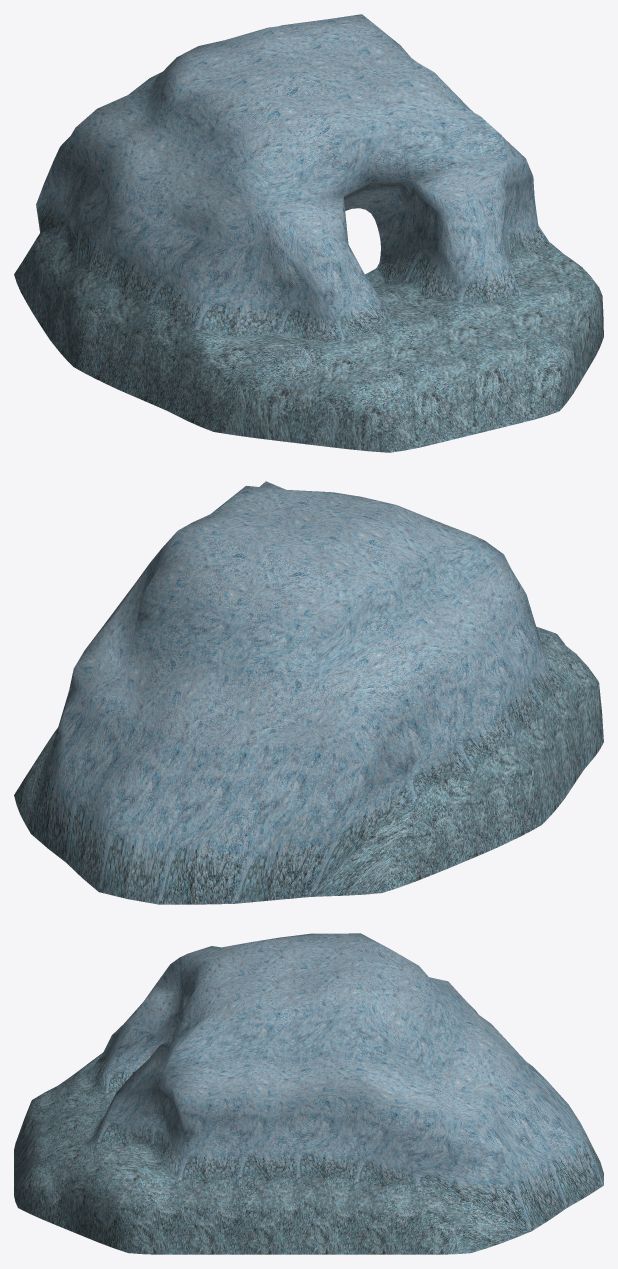
The model's file is thm_all_cave_flatland_s01_ice_r0_mesh_l0.fbx.
3 views of the same model, one above another, from view 1: azimuth 30°, elevation 25°; view 2: azimuth 150°, elevation 25°; view 3: azimuth 270°, elevation 25° (orthographic). The views are drawn at different scales.
Visible parts, largest first — view 1: mesh_node; view 2: mesh_node; view 3: mesh_node.
Boxes of the visible parts, box(x1,y1,x2,y2) form: mesh_node: box(14, 14, 603, 452); mesh_node: box(14, 481, 603, 904); mesh_node: box(14, 933, 603, 1254).
Bounding box in the file's own units: 56.36 × 31.43 × 78.78.
